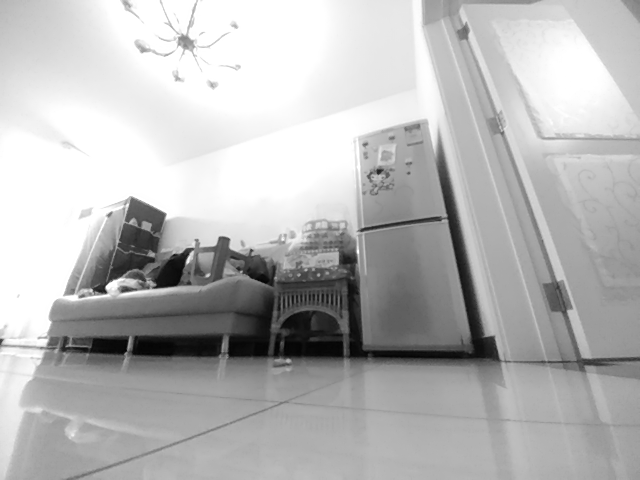pet feces: (271, 356, 294, 370)
